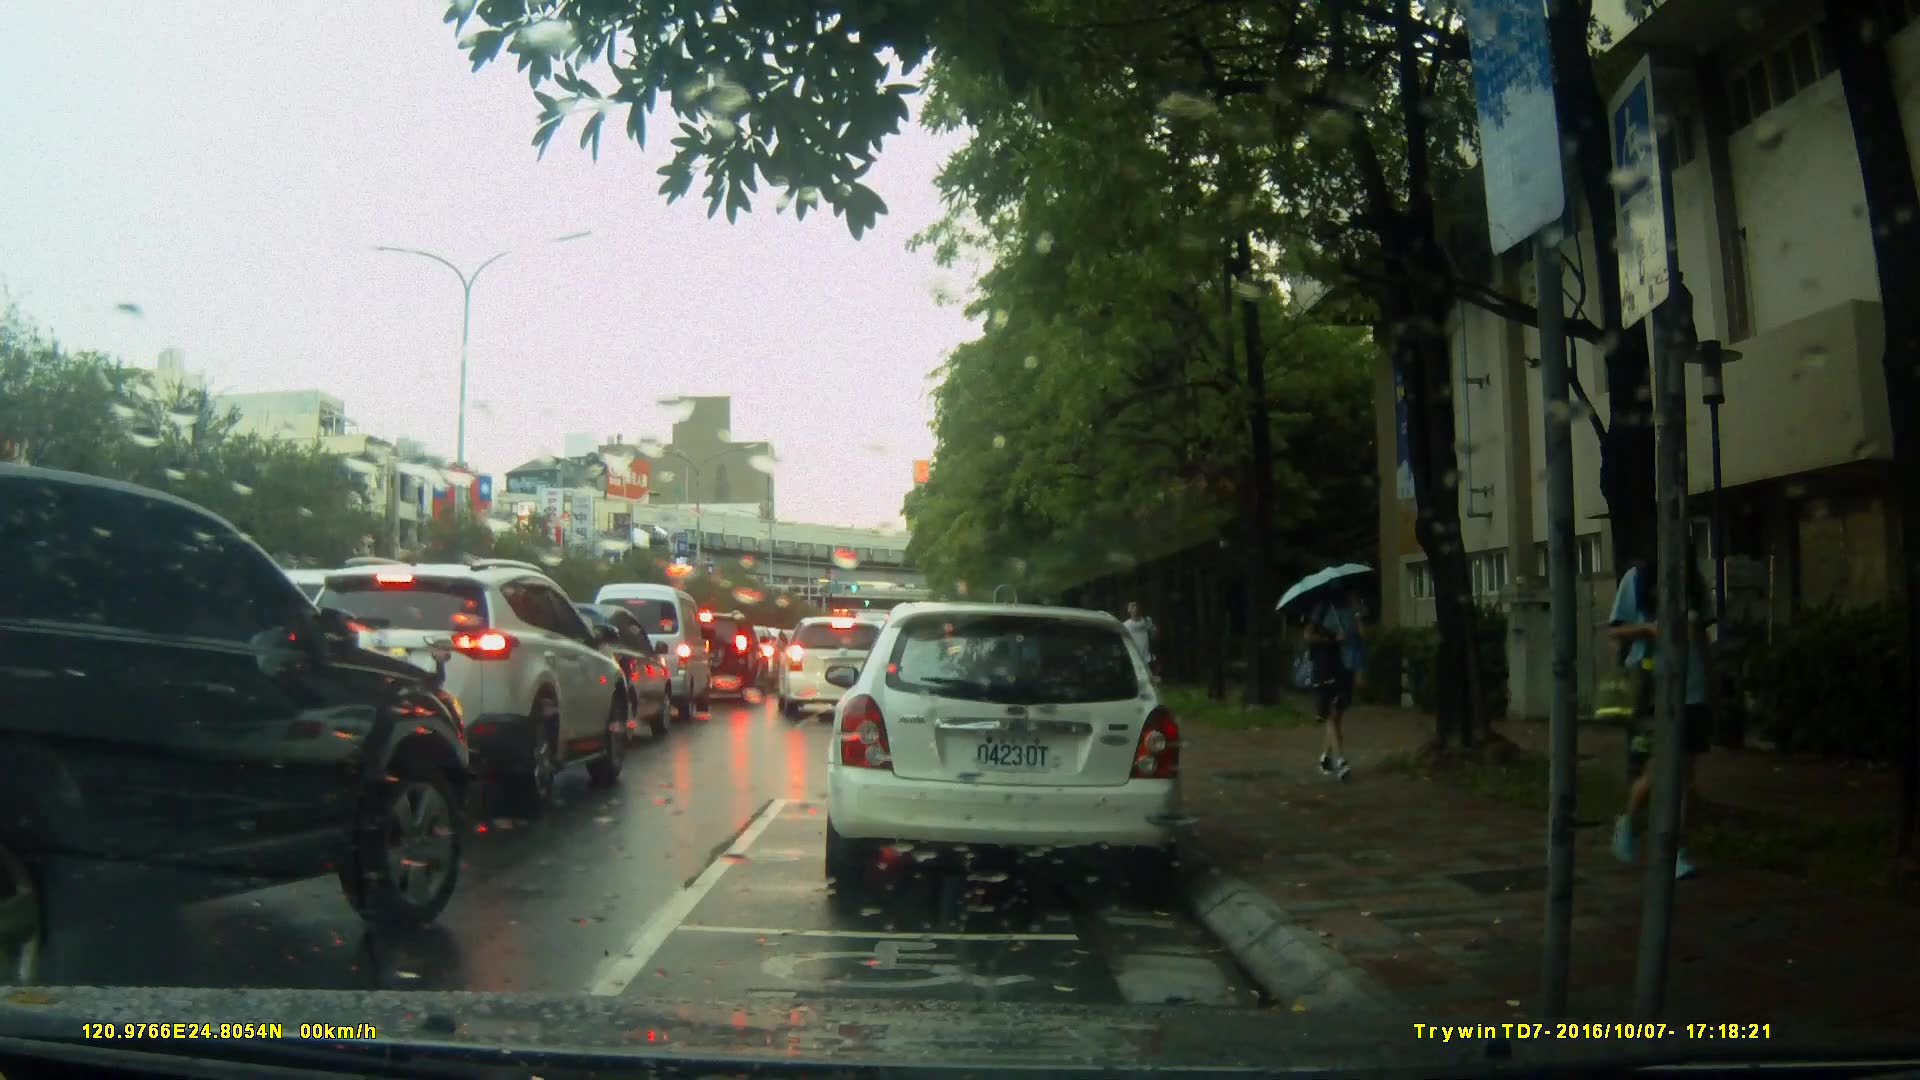pedestrian: (1567, 477, 1739, 908), (1301, 555, 1384, 787), (1128, 593, 1162, 698)
vehicle: (1, 460, 464, 986), (820, 602, 1188, 898), (286, 556, 636, 804), (472, 602, 677, 753), (575, 582, 711, 730), (775, 616, 909, 720), (673, 611, 766, 698)
